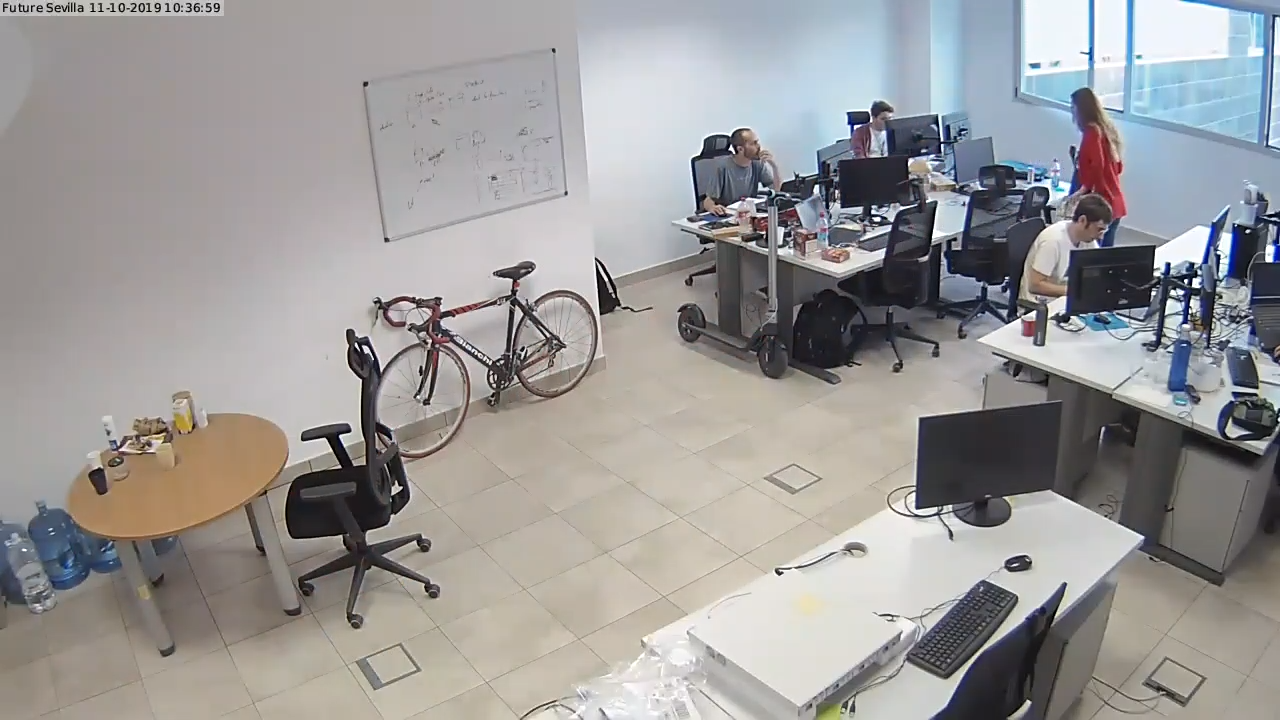head: (1064, 186, 1119, 247), (1062, 78, 1105, 126), (863, 88, 901, 140), (726, 119, 764, 165)
